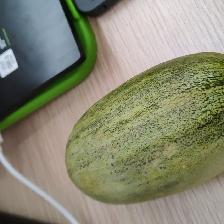gua: (93, 93, 211, 180)
